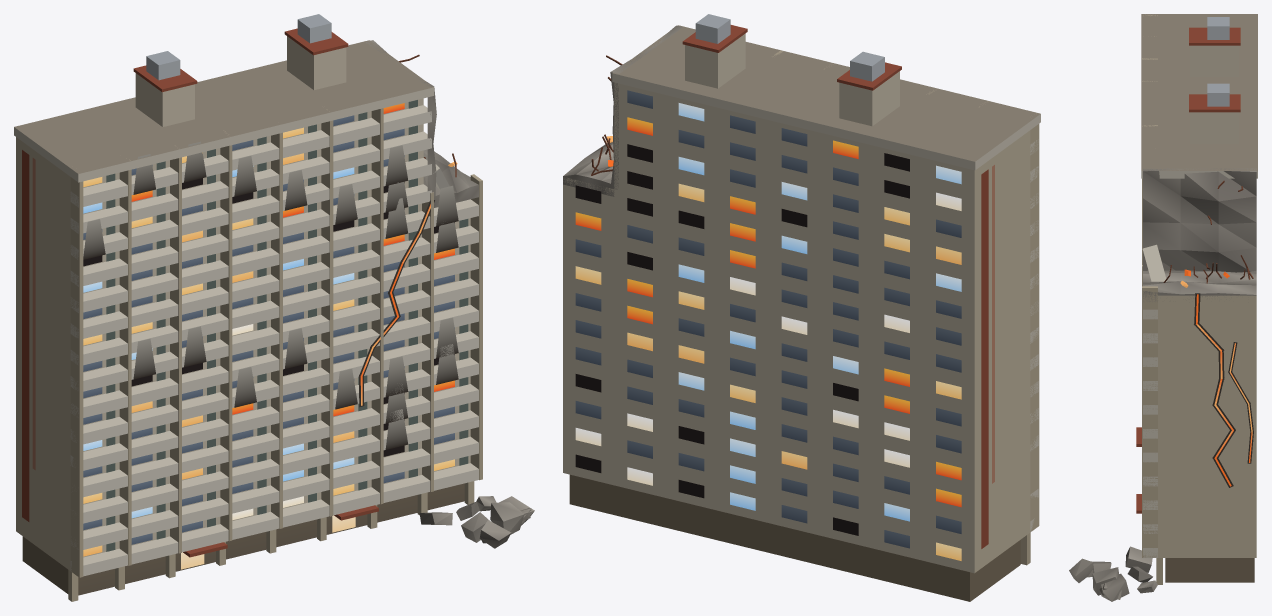
Rendered from bld_apt_E_damaged.meshopt.glb.
The picture shows the model from 3 angles, left to right: view 1: azimuth 30°, elevation 25°; view 2: azimuth 150°, elevation 25°; view 3: azimuth 270°, elevation 25°; orthographic projection. The views are drawn at different scales.
Parts seen in each view (by area): view 1: bld_apt_E_damaged; view 2: bld_apt_E_damaged; view 3: bld_apt_E_damaged.
Part boxes in pixels (x1=…): bld_apt_E_damaged: x1=14, y1=14, x2=534, y2=601; bld_apt_E_damaged: x1=563, y1=14, x2=1040, y2=601; bld_apt_E_damaged: x1=1069, y1=14, x2=1257, y2=601.
Bounding box in the file's own units: 48.34 × 52.61 × 20.11.
